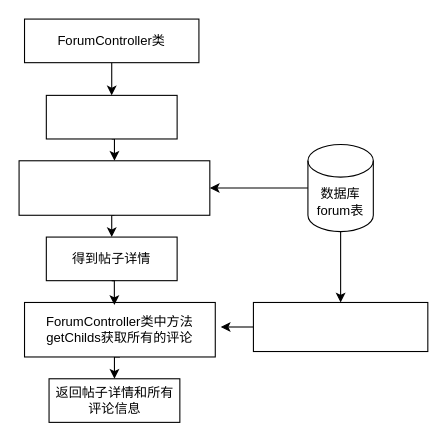
Some shapes in this 447 by 441 pixel diagram are drawn without their labels. The shapes that lost their labels are listed below. From the top down, each one's centre as x and y in pixels, then its label:
the point at 111,116: 获取获取当前 选中的论坛id
the point at 114,187: 使用类中方法forumService.selectById(id)
the point at 340,326: forumService.selectList id查询forum表所有中子节点
